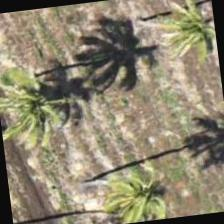Kelapa_Sawit: (0, 53, 88, 154), (95, 144, 195, 223), (131, 0, 220, 86)
